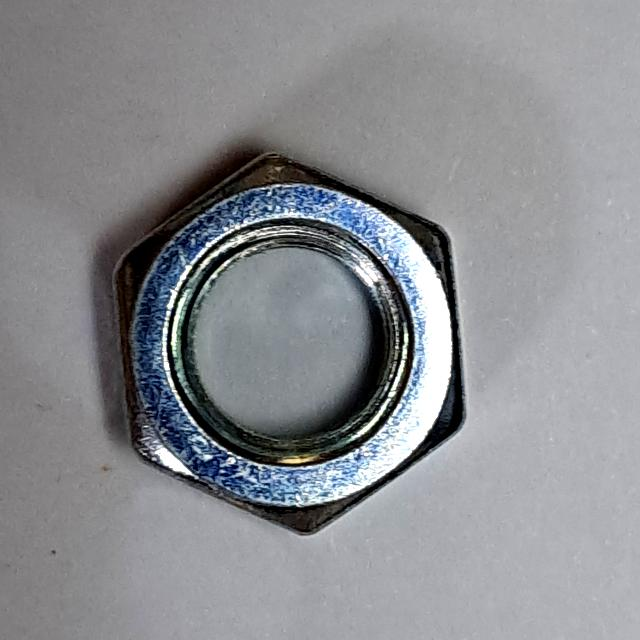Excellent: (104, 141, 480, 551)
